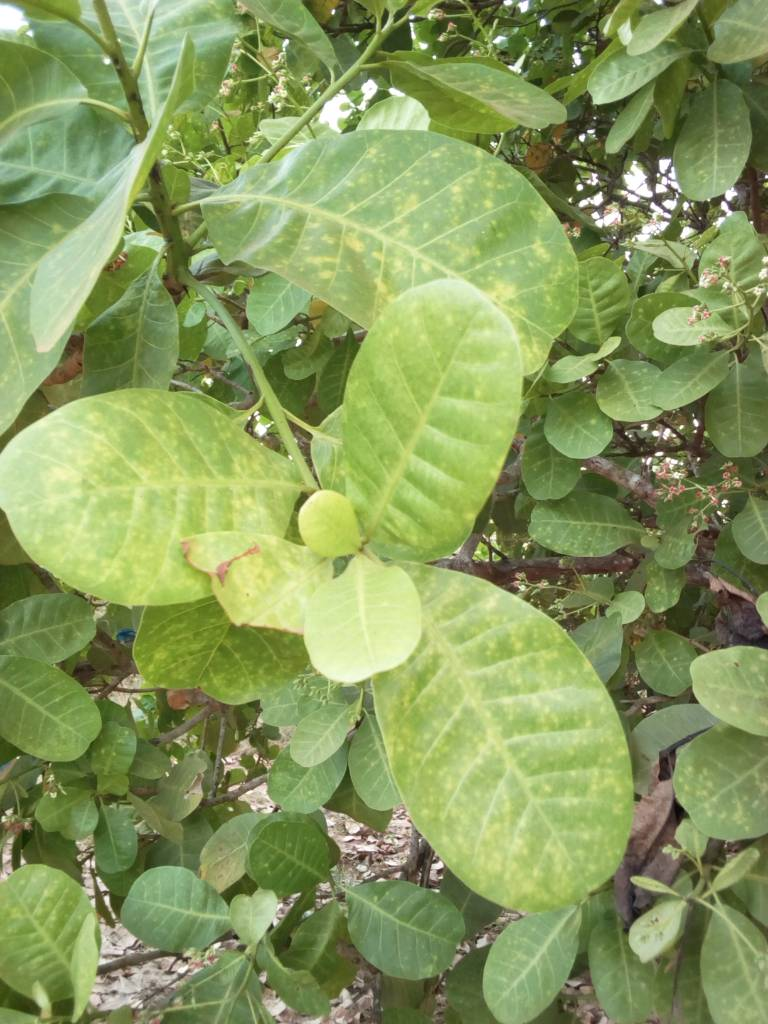Alternariose: (372, 564, 627, 908), (193, 128, 580, 342), (2, 385, 344, 605), (675, 647, 765, 847)
